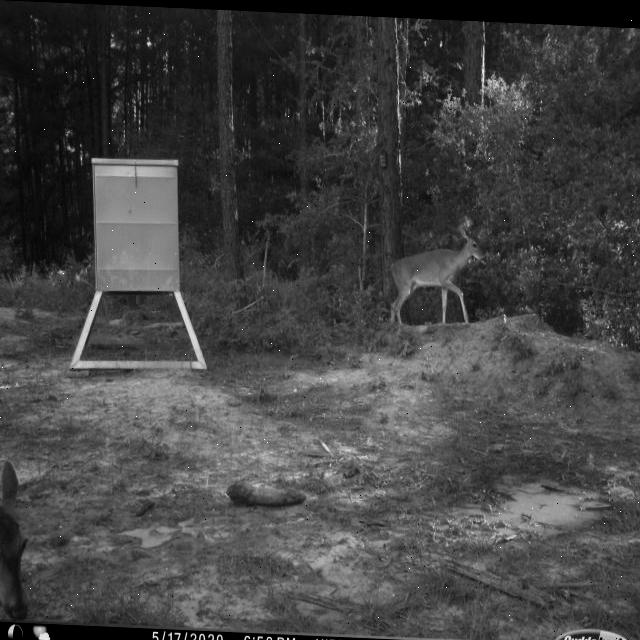Deer: (388, 219, 492, 336), (1, 454, 36, 620)
